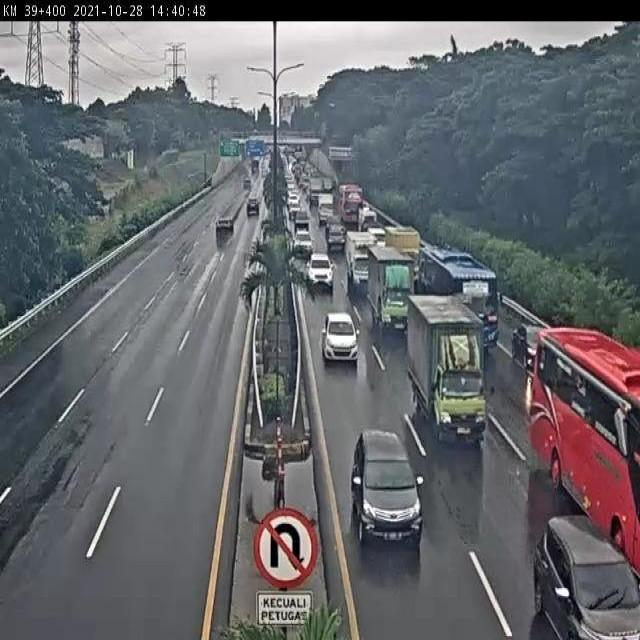bus-l-: (525, 319, 640, 557), (416, 240, 499, 352)
car: (350, 432, 421, 543), (320, 311, 359, 364), (511, 319, 547, 369), (305, 249, 335, 288)
truck-m-: (406, 298, 488, 438), (369, 245, 415, 334), (344, 228, 377, 289)
